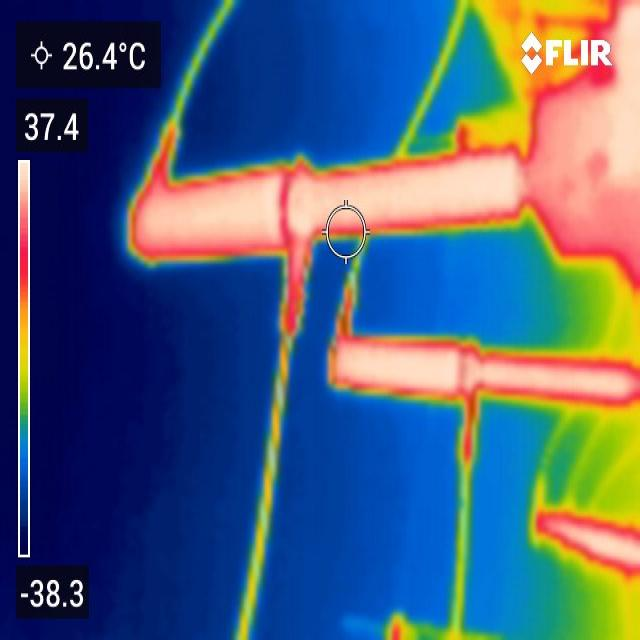Zona_Extrema: (138, 12, 637, 271), (333, 342, 635, 398), (548, 519, 639, 566)
